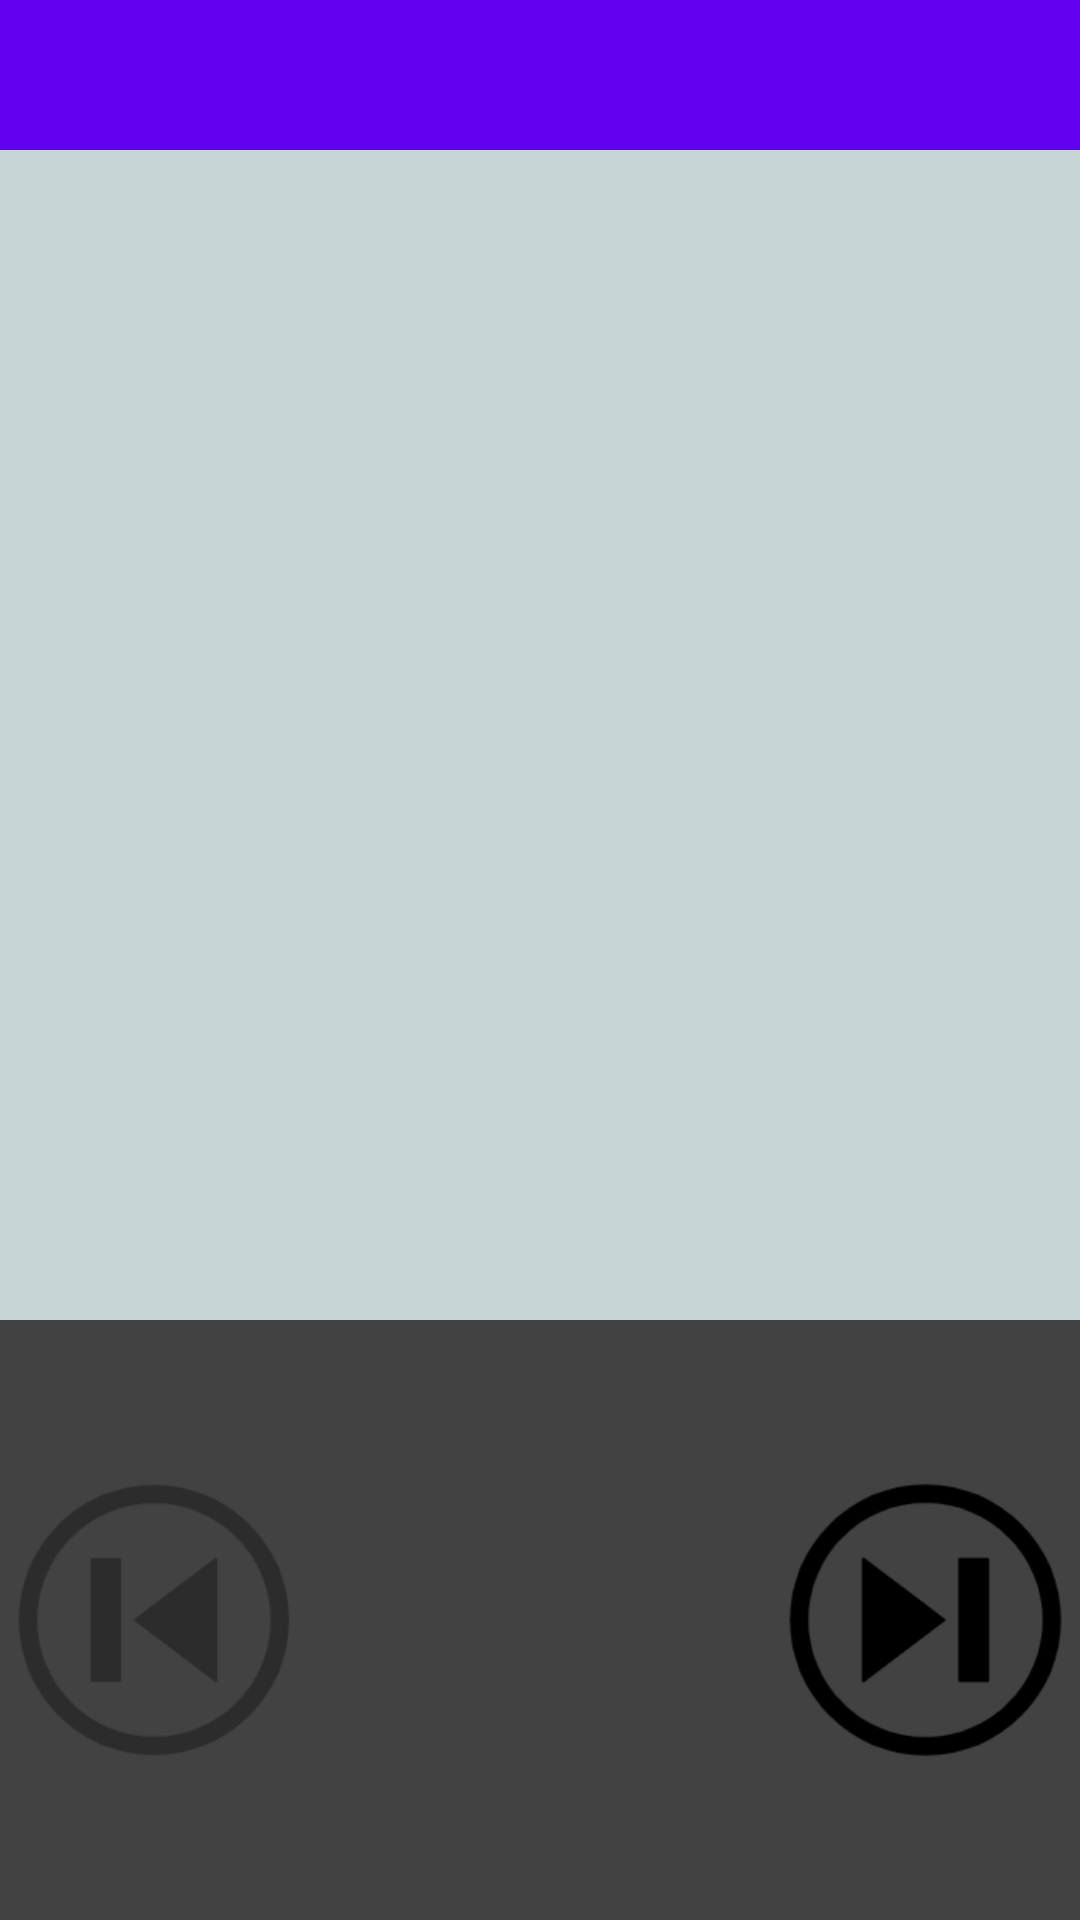

Named icons in this screenshot (1080x1920) and their centers, (x,y):
next: (925,1620)
